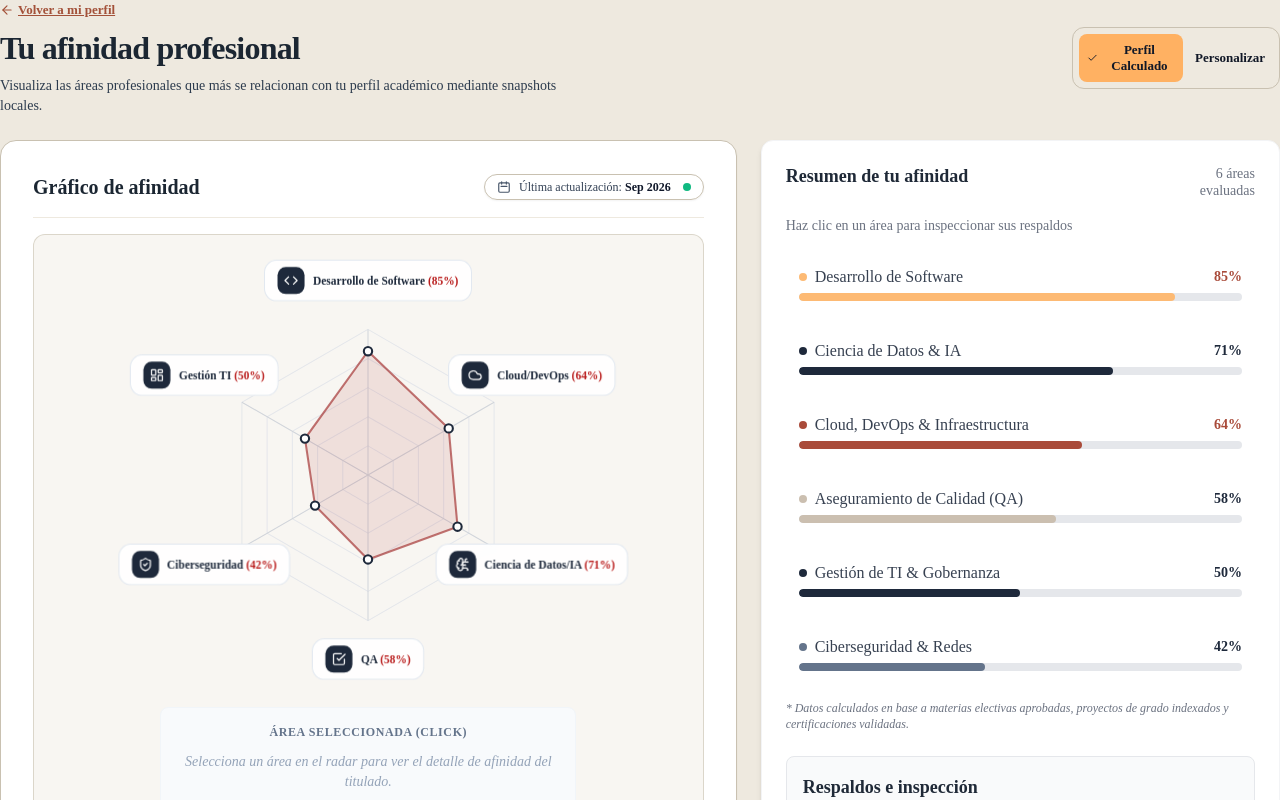
GraduateAffinityView › personalizar muestra las ponderaciones de la configuración
The width and height of the screenshot is (1280, 800).
Click the tab "Personalizar". click: coordinates (1230, 58)
box: [1187,40,1273,76]
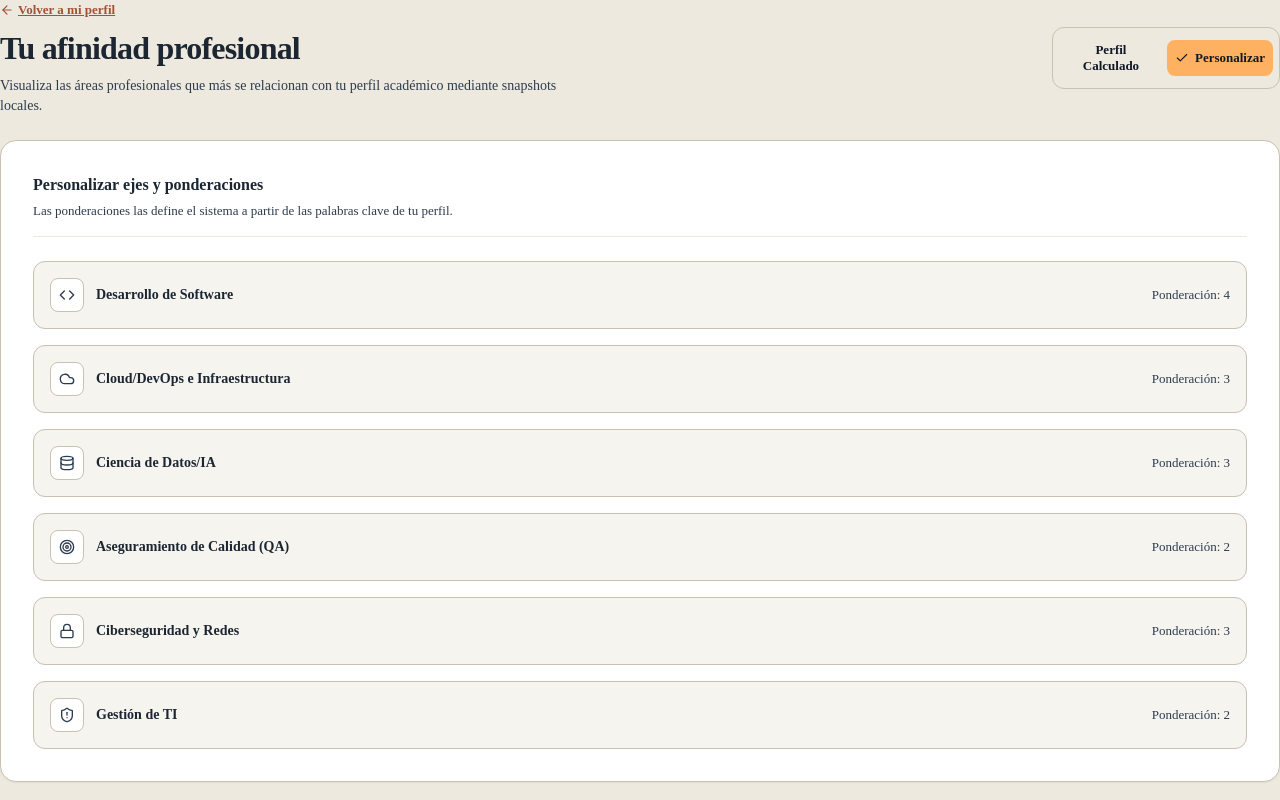
Check: the text "Ponderación: 4" is shown 6 times, box [1152,285,1230,305]; [1152,369,1230,389]; [1152,453,1230,473]; [1152,537,1230,557]; [1152,621,1230,641]; [1152,705,1230,725]
Check: the text "Ponderación: 4" is shown, box [1152,285,1230,305]
